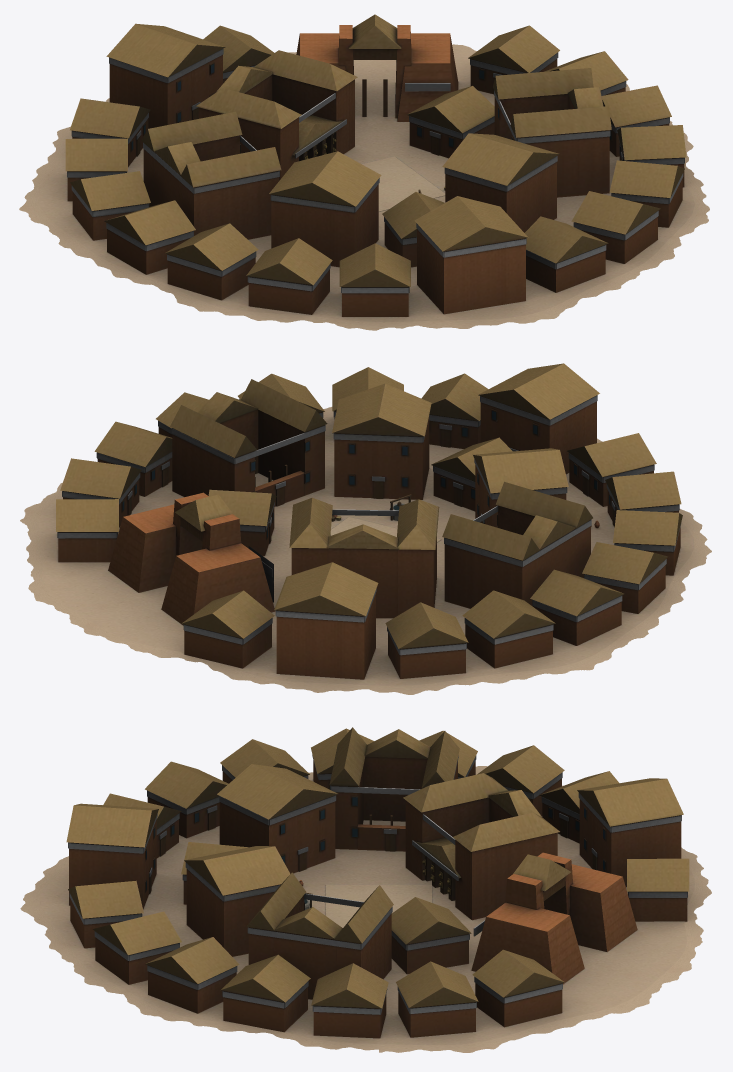
The model's file is classical-town-big-a-westafrica-1bfb0473.glb.
The picture shows the model from 3 angles, top to bottom: view 1: azimuth 30°, elevation 25°; view 2: azimuth 150°, elevation 25°; view 3: azimuth 270°, elevation 25°; orthographic projection.
Parts seen in each view (by area): view 1: LOD0; view 2: LOD0; view 3: LOD0.
Boxes of the visible parts, x1=… form: LOD0: x1=19, y1=14, x2=709, y2=330; LOD0: x1=20, y1=363, x2=711, y2=694; LOD0: x1=20, y1=727, x2=711, y2=1052.
Size of what is drawn, in the model's own units: 7.91 by 1.15 by 8.
3 materials, 3 textured.
